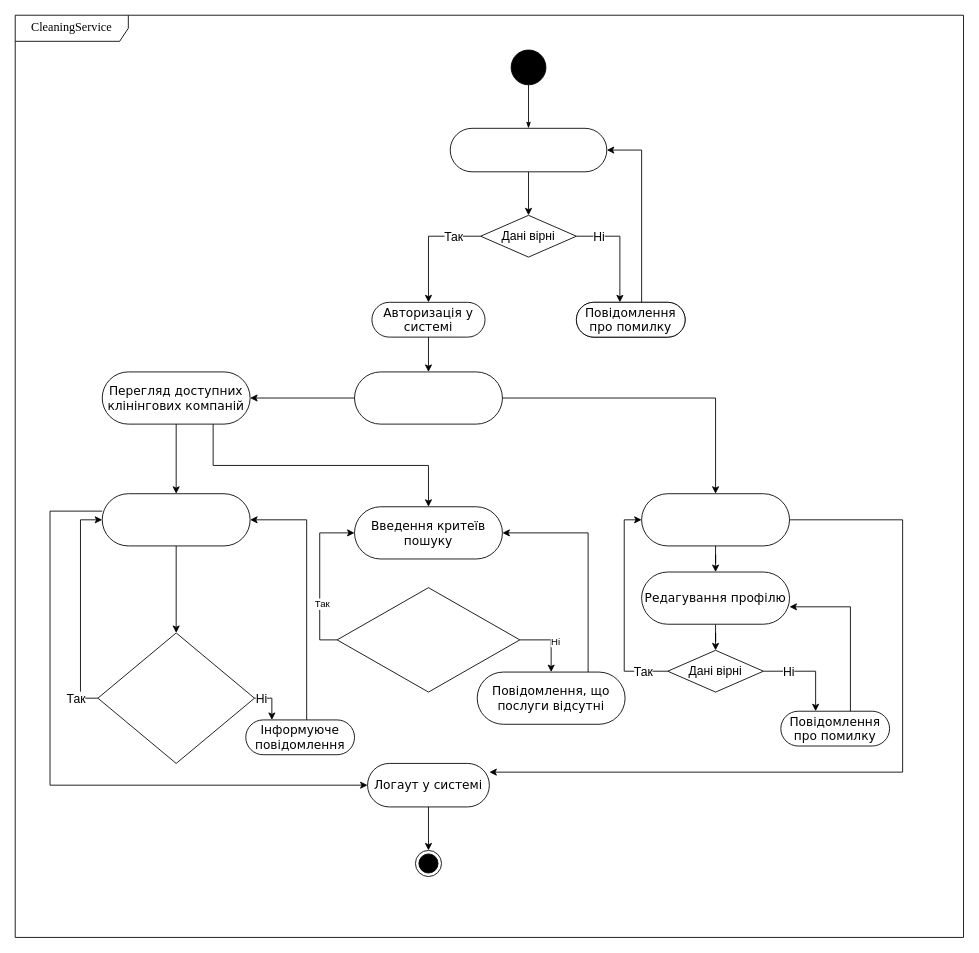
This 979x953 diagram has some shape labels left out. The centre of each missing label's shape, as x and y in pixels:
"Введення паролю та імейлу" belongs at pixel 528 149.
"Меню системи" belongs at pixel 428 397.
"Перегляд власного профілю" belongs at pixel 715 519.
"Послуги до контракту укладено коректно" belongs at pixel 175 697.
"У системі є задовільняючі критеріі послуги" belongs at pixel 428 639.
"Укладення контракту на прибирання" belongs at pixel 175 519.
